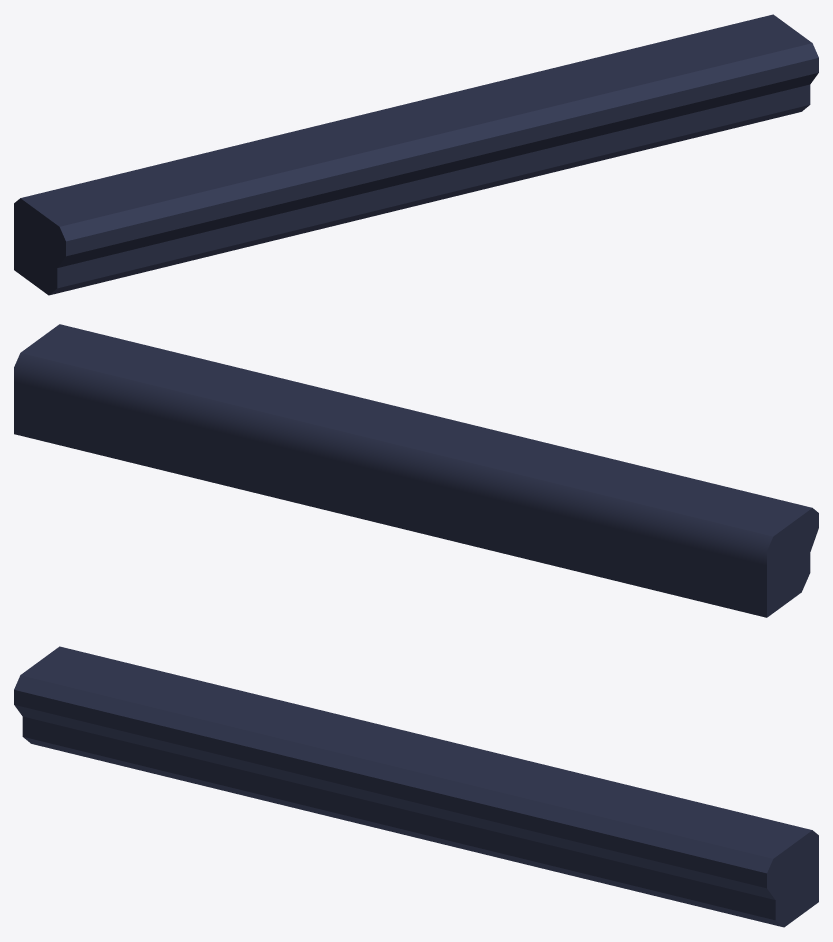
File: Edge_Top.fbx
3 renders of one model, top to bottom at view 1: azimuth 30°, elevation 25°; view 2: azimuth 150°, elevation 25°; view 3: azimuth 330°, elevation 25°, orthographic.
Parts seen in each view (by area): view 1: Edge_Top; view 2: Edge_Top; view 3: Edge_Top.
Part boxes in pixels (x1,y1,x2,y2): Edge_Top: (14, 14, 818, 295); Edge_Top: (14, 324, 818, 617); Edge_Top: (14, 646, 818, 927).
Bounding box in the file's own units: 700 × 68.08 × 83.78.
